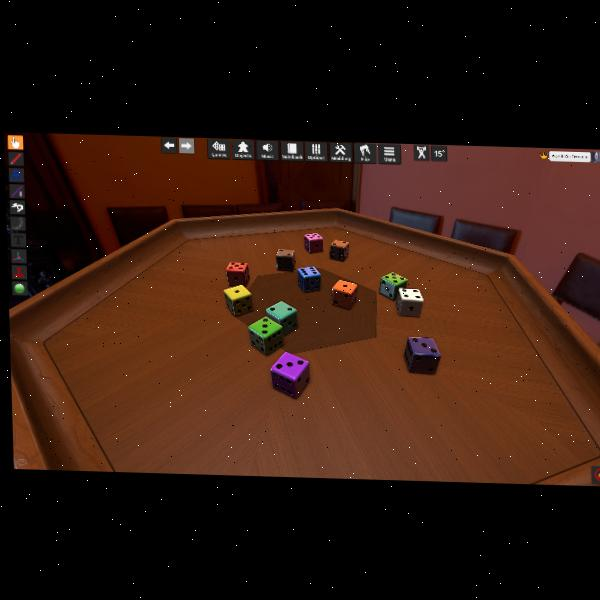d6: (270, 351, 312, 399), (248, 315, 284, 355), (406, 336, 442, 374), (266, 300, 299, 336), (223, 283, 252, 316), (395, 287, 422, 317), (378, 272, 405, 301), (332, 280, 357, 310), (296, 265, 320, 293), (225, 261, 249, 287), (276, 248, 295, 272), (329, 239, 349, 261), (304, 232, 324, 254)
